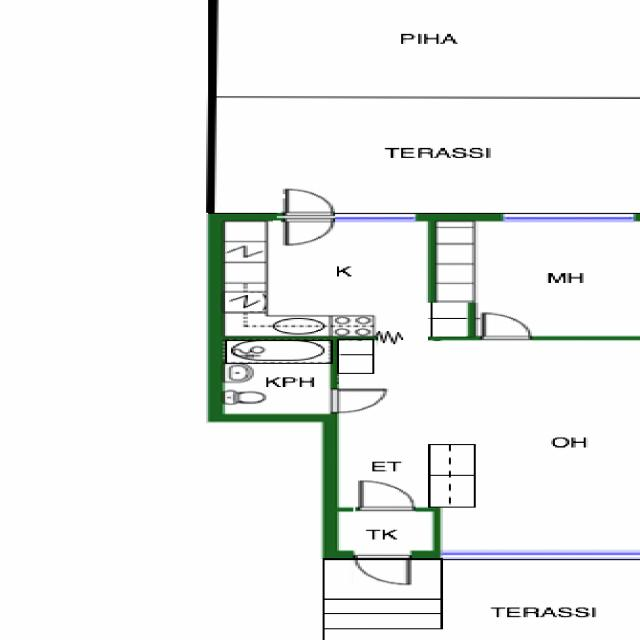door: (355, 551, 409, 587), (360, 480, 413, 512), (285, 213, 333, 246), (484, 311, 530, 340), (331, 389, 382, 412)
